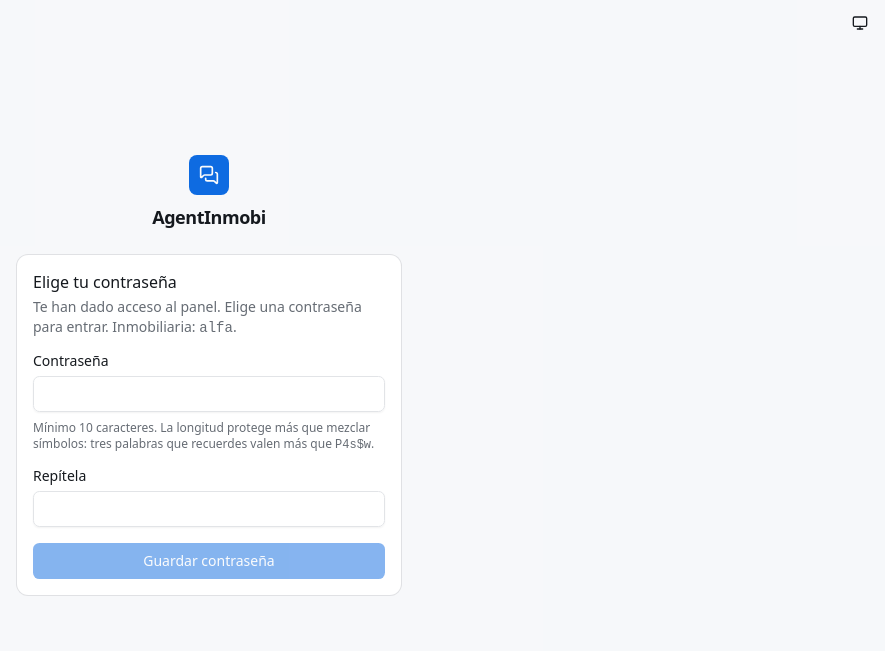
Elegir contraseña con un enlace › un enlace caducado se explica tal y como lo dice el servidor
Type "contrasena-larga-2026" into the password field labelled "Contraseña" at (209, 394), box [33, 376, 385, 412]
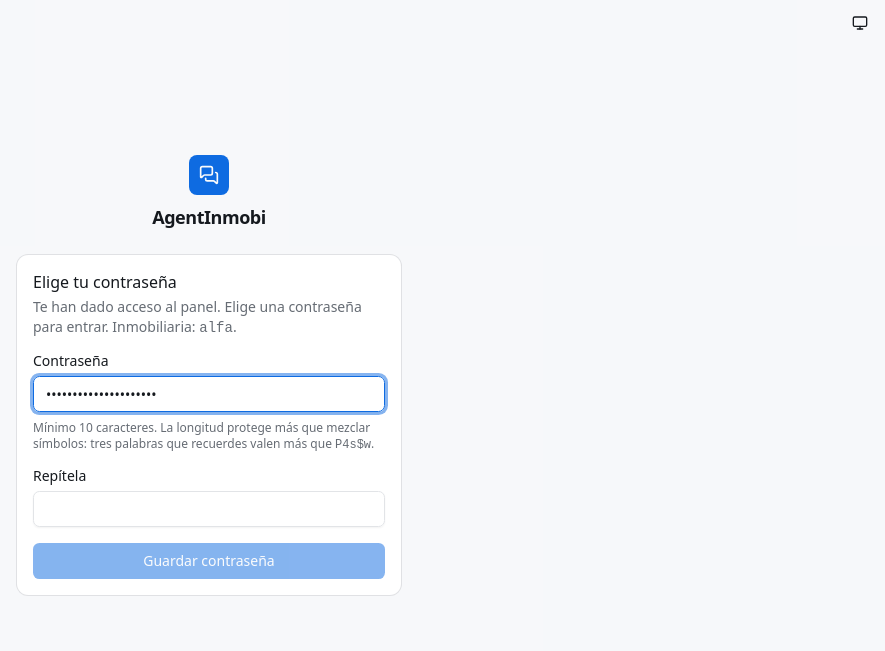
Type "contrasena-larga-2026" into the password field labelled "Repítela" at (209, 509), box [33, 491, 385, 527]
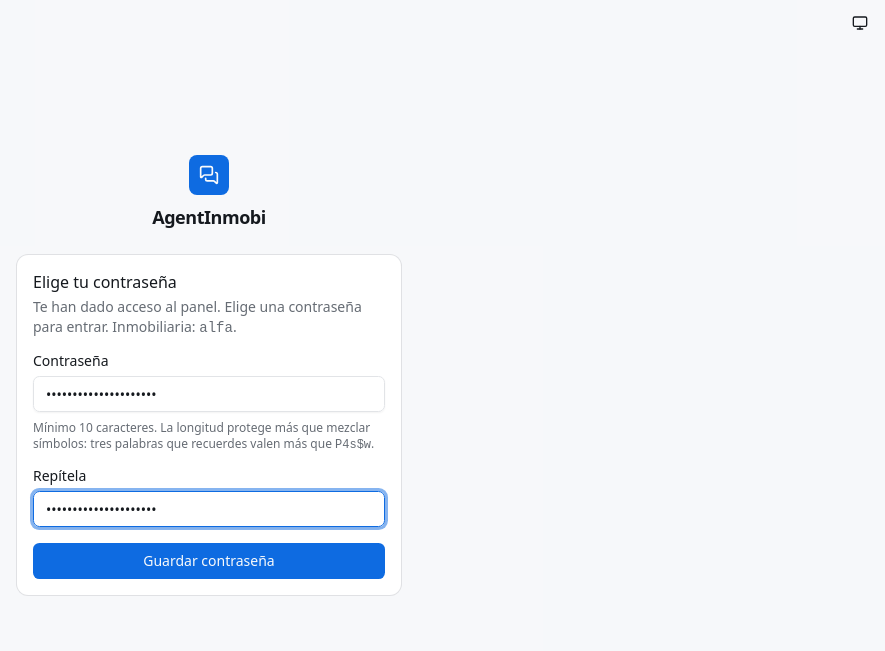
Click the button "Guardar contraseña" at (209, 561), box [33, 543, 385, 579]
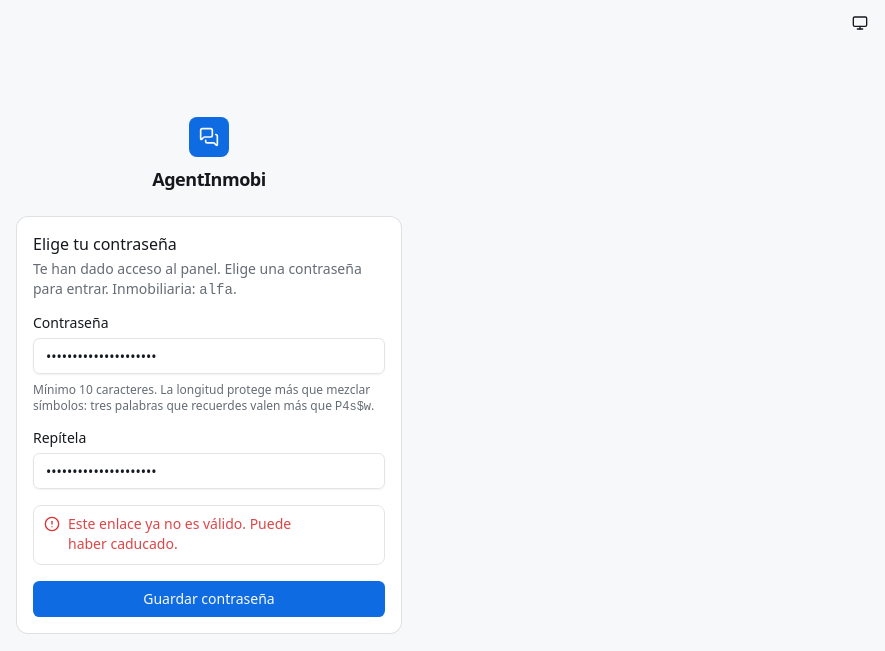
Now the text "Este enlace ya no es válido. Puede haber caducado." is shown, box [68, 514, 291, 553]
